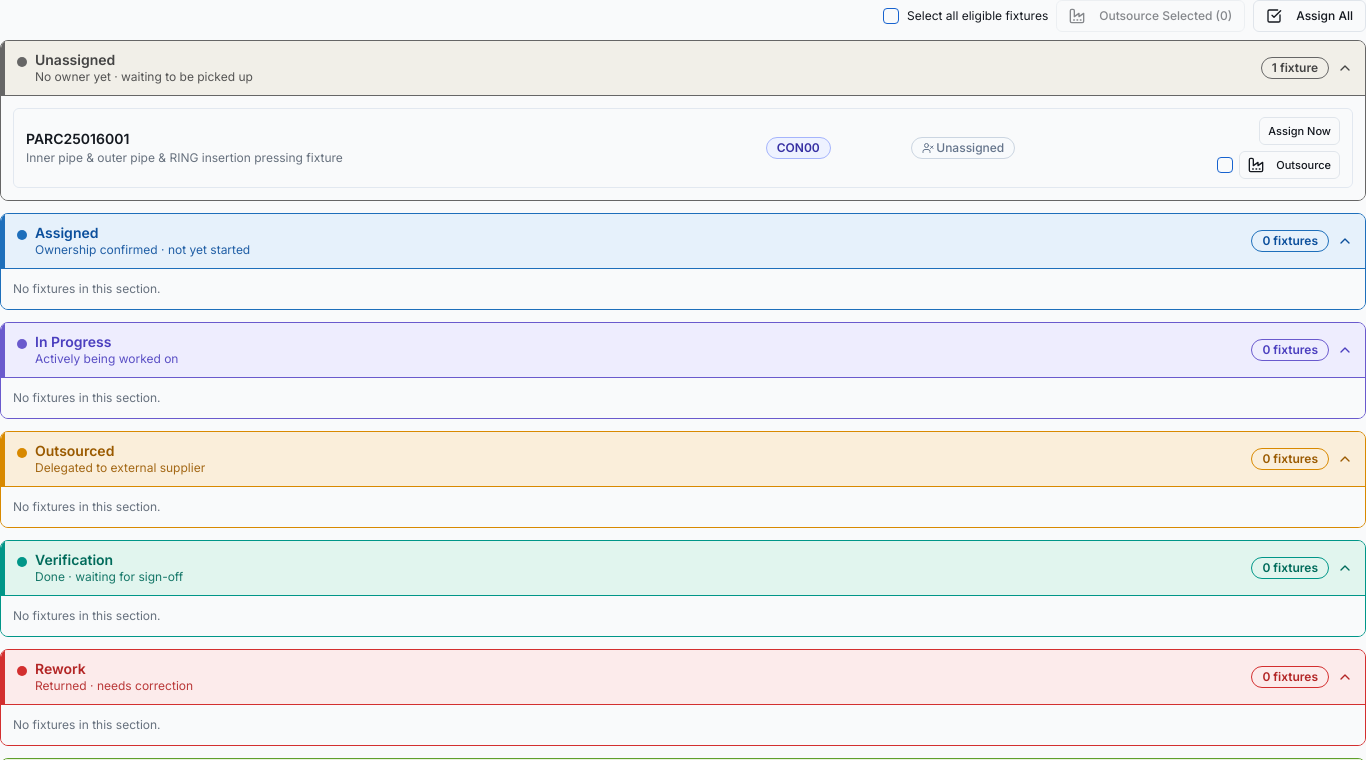
ProjectFixtureOperations assignment expansion › prevents duplicate bulk outsource submissions
Click the checkbox named "Select PARC25016001 for outsourcing": click(1225, 165) [1217,157,1233,173]
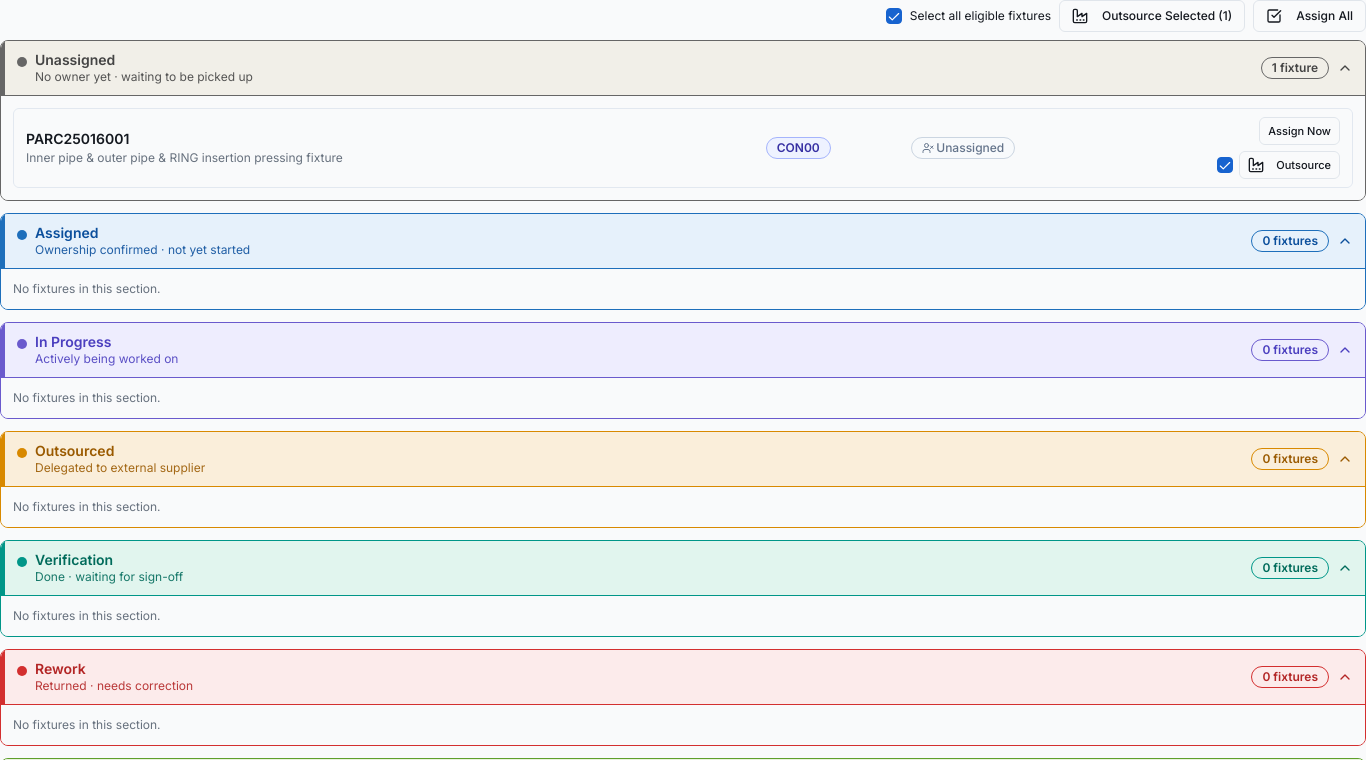
Click the button "Outsource Selected (1)": click(1152, 16) [1059,0,1245,32]
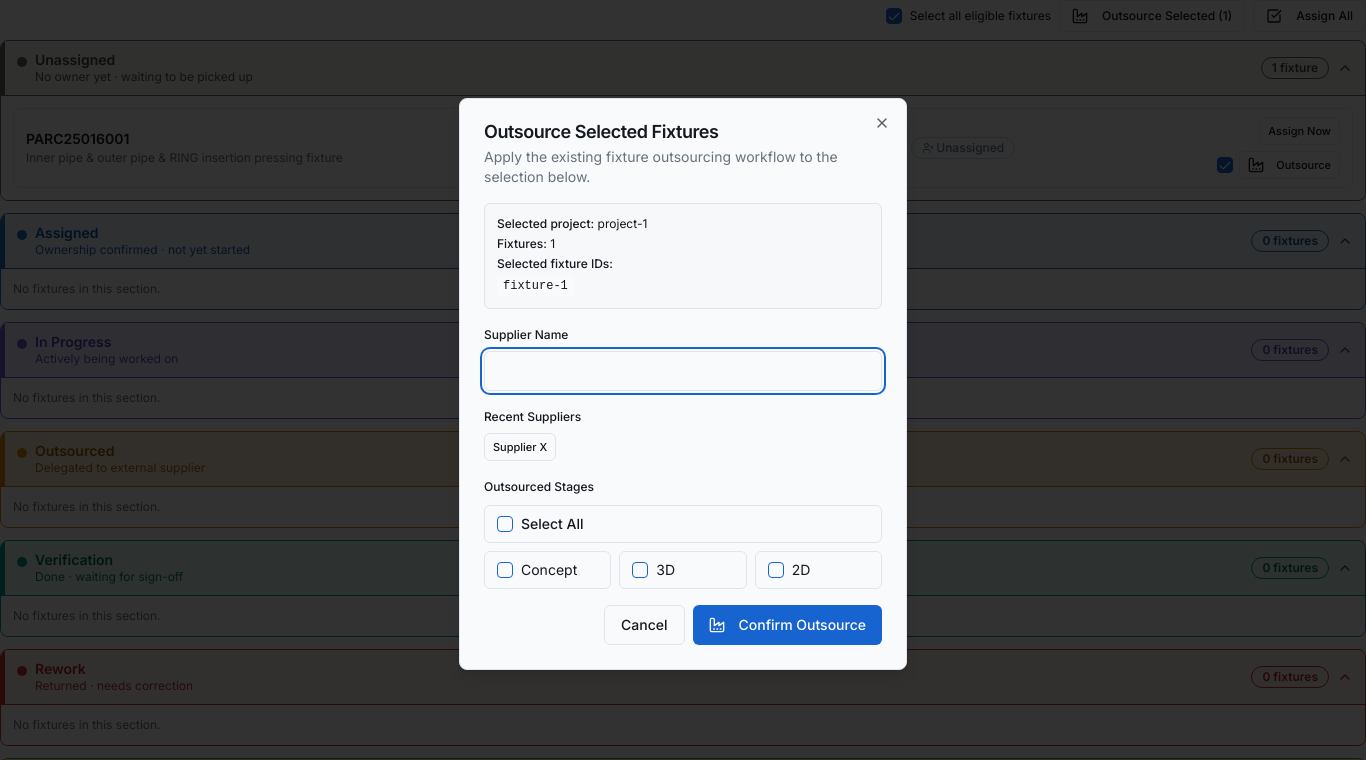
In the field labelled "Supplier Name": (683, 371) [484,351,882,391], type "Supplier X"
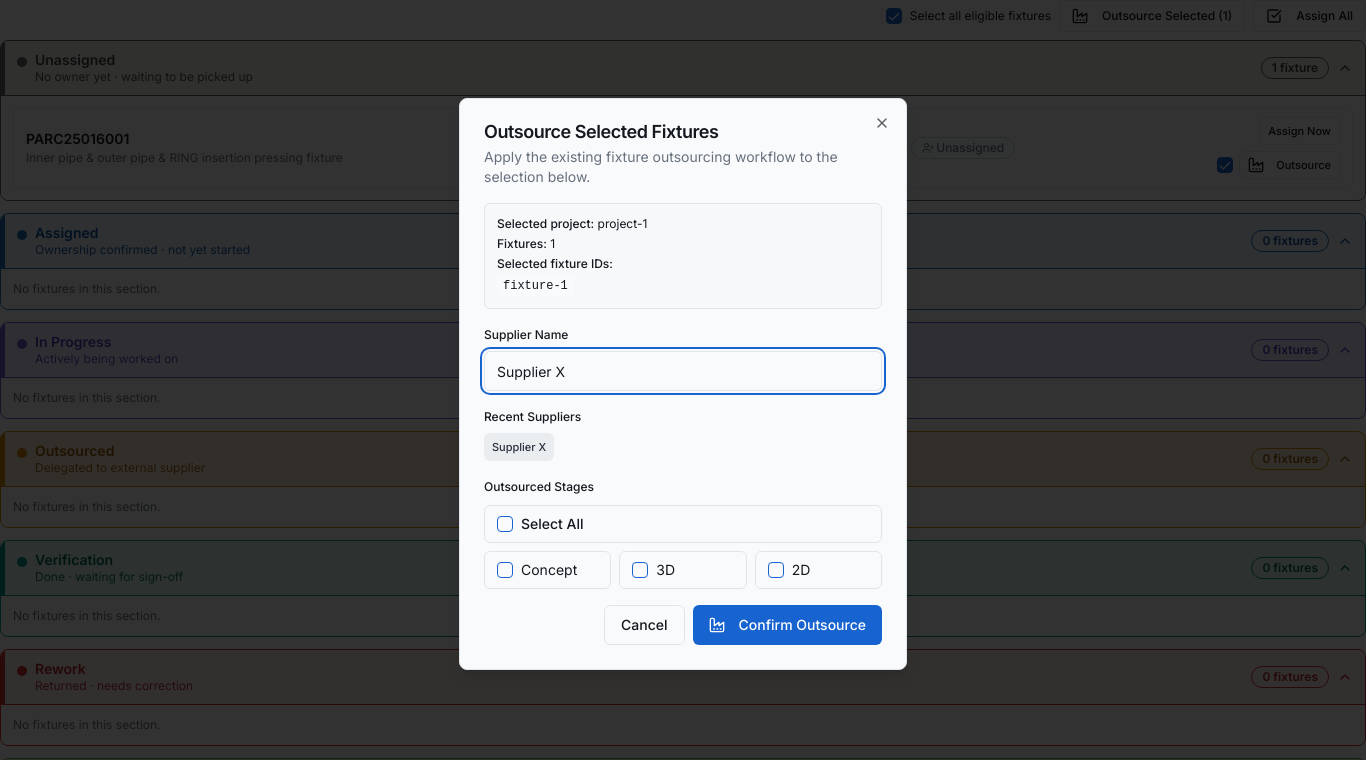
Click the checkbox named "Concept": click(505, 570) [497,562,513,578]
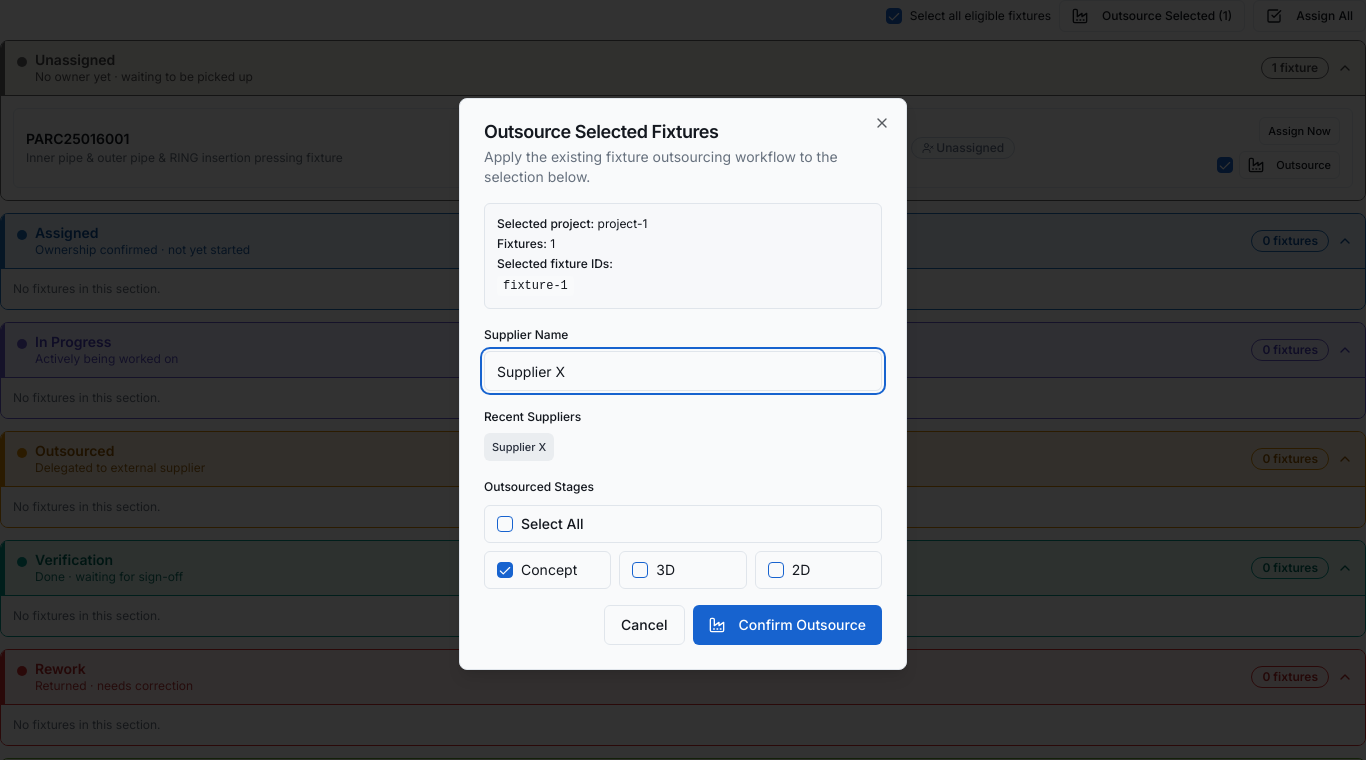
Click the button "Confirm Outsource": click(787, 625) [692,605,882,645]
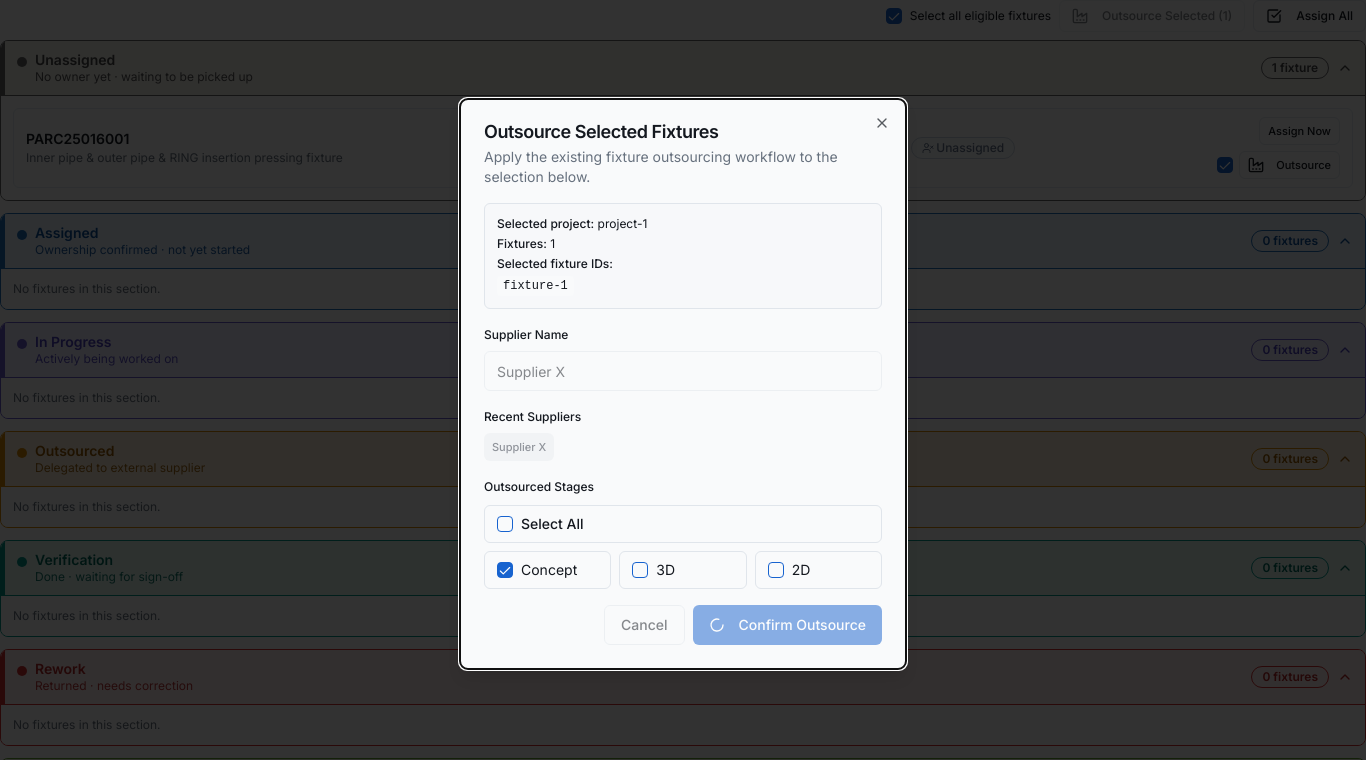
Now the button "Confirm Outsource" is disabled
Click the button "Confirm Outsource": click(787, 625) [692,605,882,645]
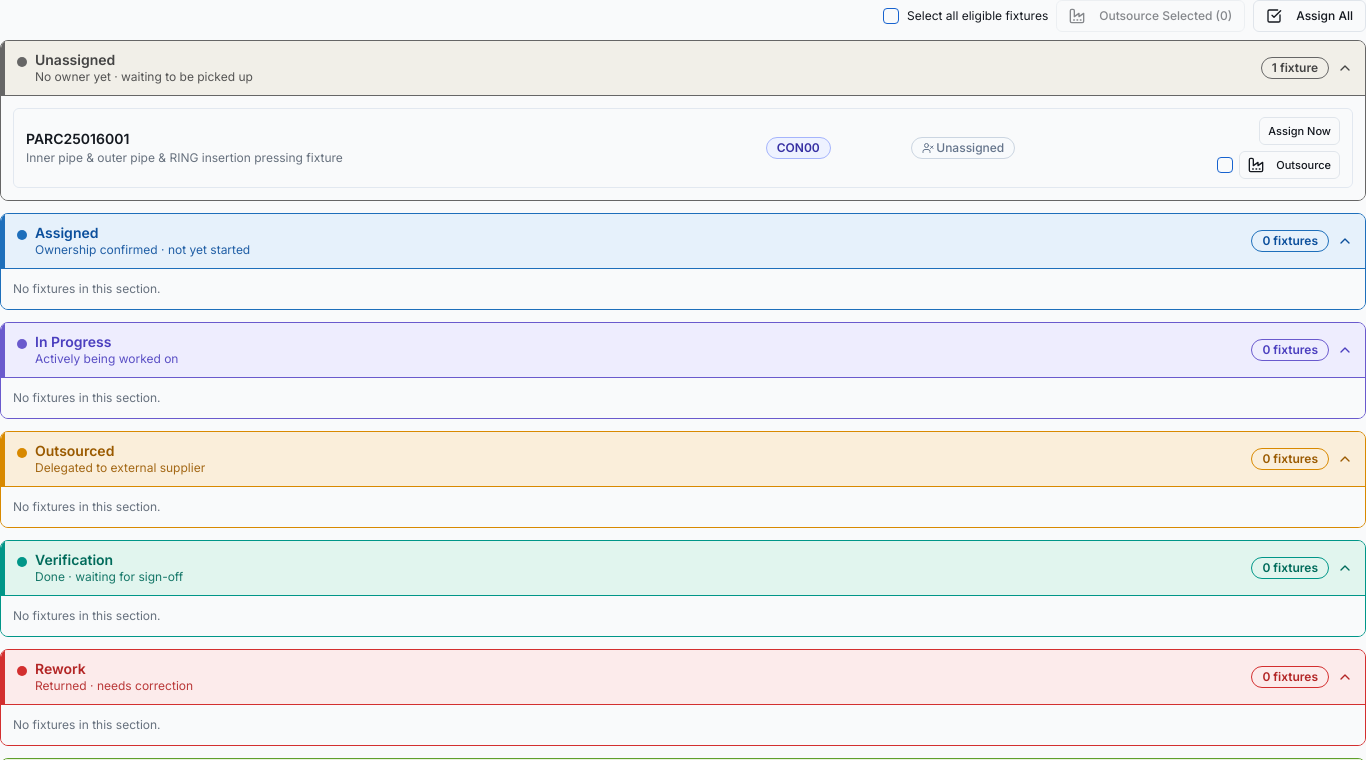
Now the dialog is gone
